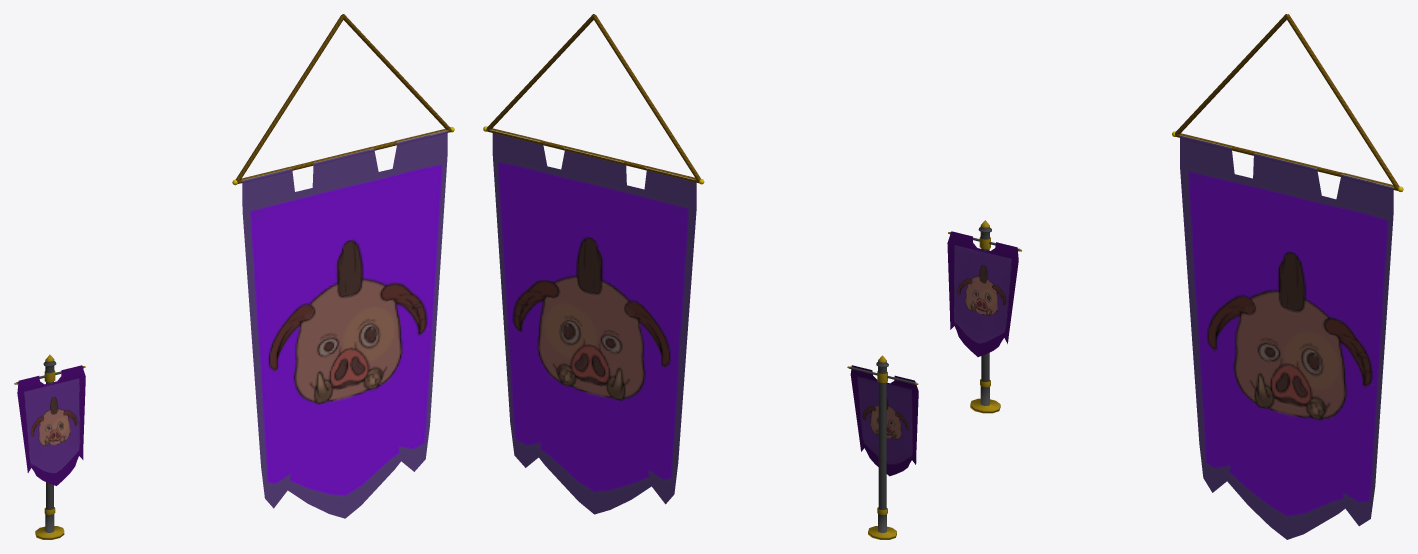
Rendered from SM_Banners'.fbx.
The picture shows the model from 3 angles, left to right: view 1: azimuth 30°, elevation 25°; view 2: azimuth 150°, elevation 25°; view 3: azimuth 330°, elevation 25°; orthographic projection. The views are drawn at different scales.
Parts seen in each view (by area): view 1: SM_TC_Banner, SM_Banner, SM_TC_Banner_Rope, SM_Banner_Stand; view 2: SM_TC_Banner, SM_Banner, SM_TC_Banner_Rope, SM_Banner_Stand; view 3: SM_TC_Banner, SM_Banner, SM_TC_Banner_Rope, SM_Banner_Stand.
Boxes of the visible parts, x1,y1,x2,y2 form: SM_TC_Banner: (242, 129, 447, 518); SM_Banner: (17, 365, 85, 485); SM_TC_Banner_Rope: (232, 14, 454, 185); SM_Banner_Stand: (14, 354, 85, 539); SM_TC_Banner: (490, 128, 696, 514); SM_Banner: (850, 365, 918, 476); SM_TC_Banner_Rope: (483, 14, 704, 184); SM_Banner_Stand: (847, 355, 918, 539); SM_TC_Banner: (1180, 133, 1393, 539); SM_Banner: (947, 231, 1018, 356); SM_TC_Banner_Rope: (1172, 14, 1403, 191); SM_Banner_Stand: (948, 220, 1021, 413).
Size of the model in its own units: 2169 by 2381 by 111.
Materials: 1 (1 with a texture image).
